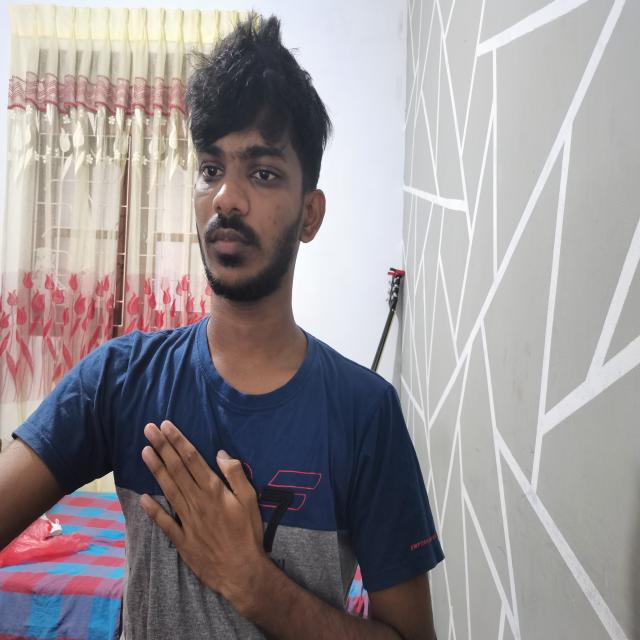Please: (140, 411, 445, 637)
